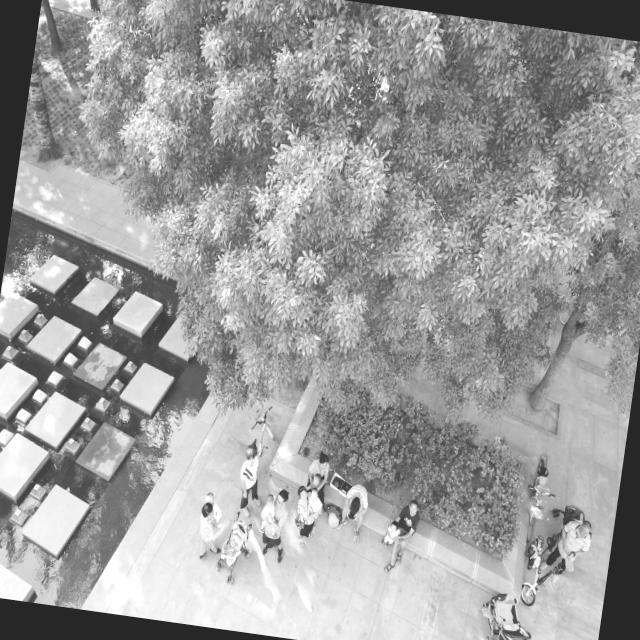person: (540, 515, 594, 590), (385, 498, 420, 576), (236, 447, 270, 517), (262, 488, 292, 564), (336, 482, 370, 544), (288, 486, 322, 548), (300, 450, 333, 512), (193, 502, 226, 558)
